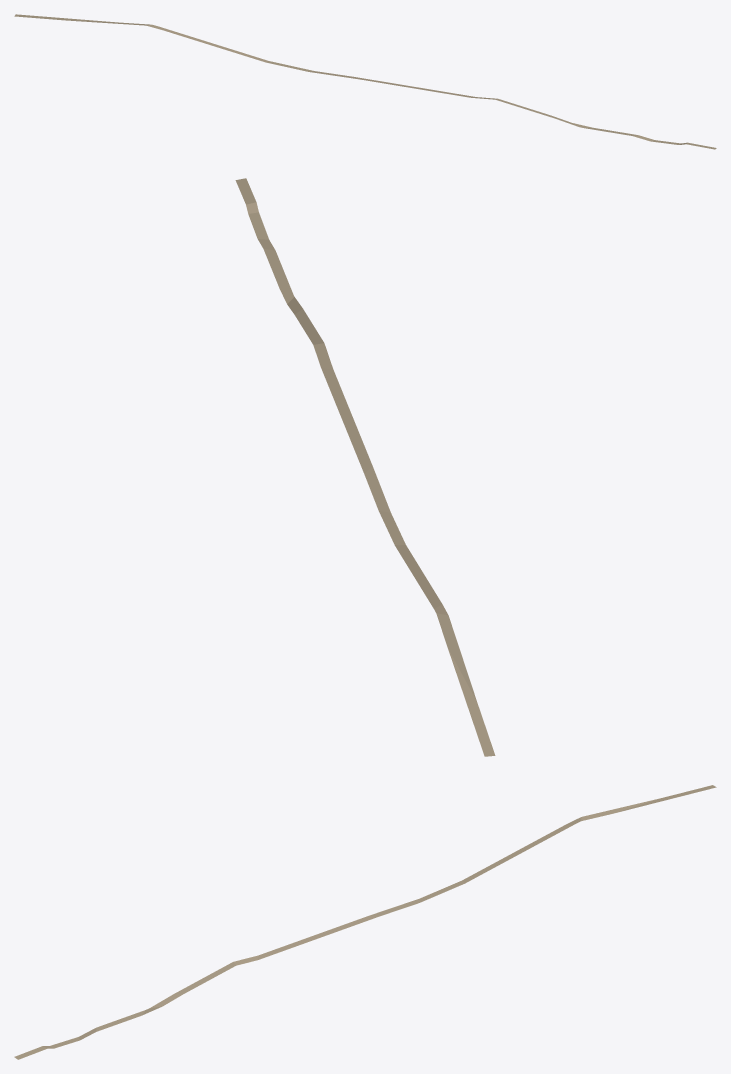
Rendered from farm_0_4_track.glb.
The picture shows the model from 3 angles, top to bottom: view 1: azimuth 30°, elevation 25°; view 2: azimuth 150°, elevation 25°; view 3: azimuth 270°, elevation 25°; orthographic projection. The views are drawn at different scales.
Visible parts, largest first — view 1: geometry_0; view 2: geometry_0; view 3: geometry_0.
Part boxes in pixels (bbox=[...]): geometry_0: bbox=[14, 14, 716, 149]; geometry_0: bbox=[235, 178, 495, 756]; geometry_0: bbox=[14, 785, 716, 1059].
Bounding box in the file's own units: 289 × 24.43 × 348.
